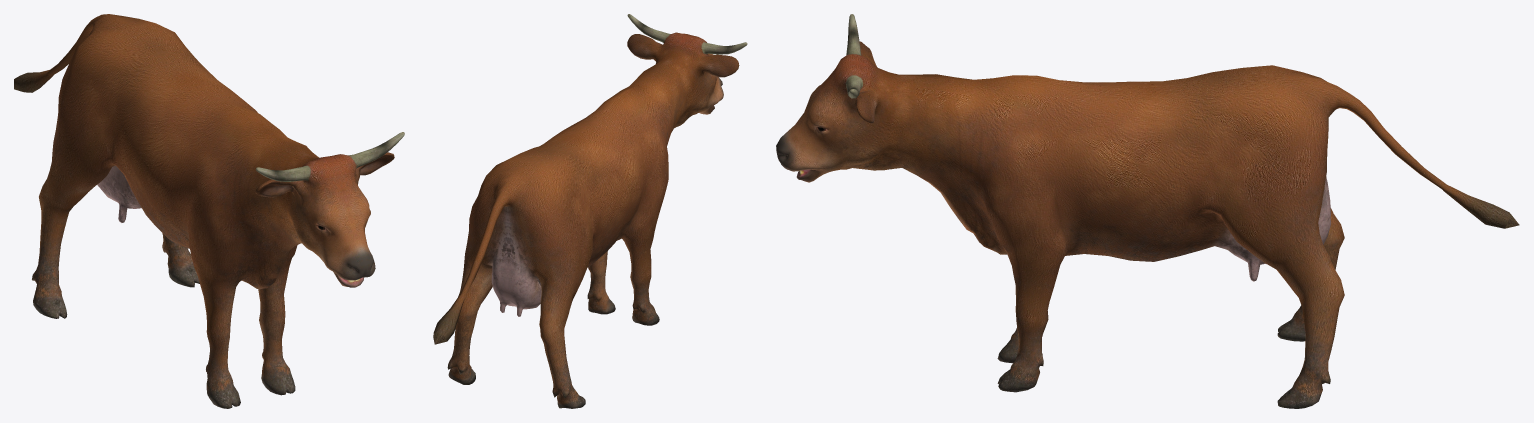
The model's file is Cow.fbx.
3 renders of one model, left to right at view 1: azimuth 30°, elevation 25°; view 2: azimuth 150°, elevation 25°; view 3: azimuth 270°, elevation 25°, orthographic. The views are drawn at different scales.
Visible parts, largest first — view 1: node_id4; view 2: node_id4; view 3: node_id4.
Part boxes in pixels (x1=…): node_id4: x1=14, y1=14, x2=404, y2=408; node_id4: x1=433, y1=14, x2=747, y2=408; node_id4: x1=776, y1=14, x2=1519, y2=408.
Size of the model in its own units: 0.2849 by 0.512 by 1.07.
Materials: 1 (1 with a texture image).
